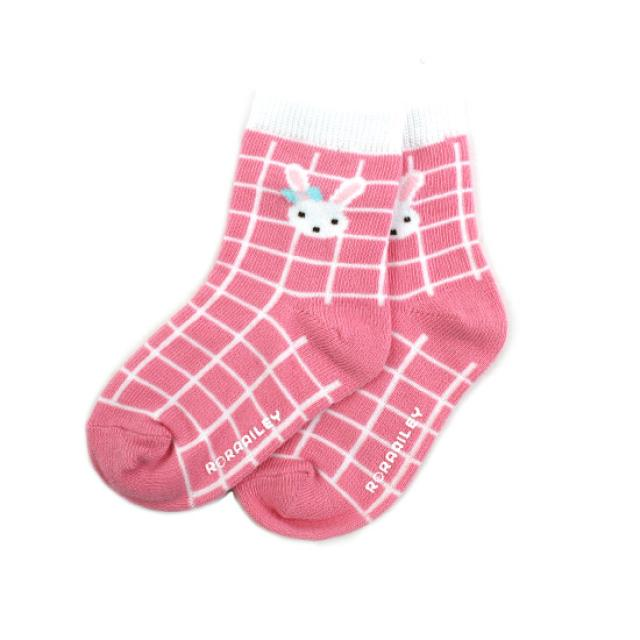sock: (85, 87, 406, 512), (230, 97, 508, 540)
